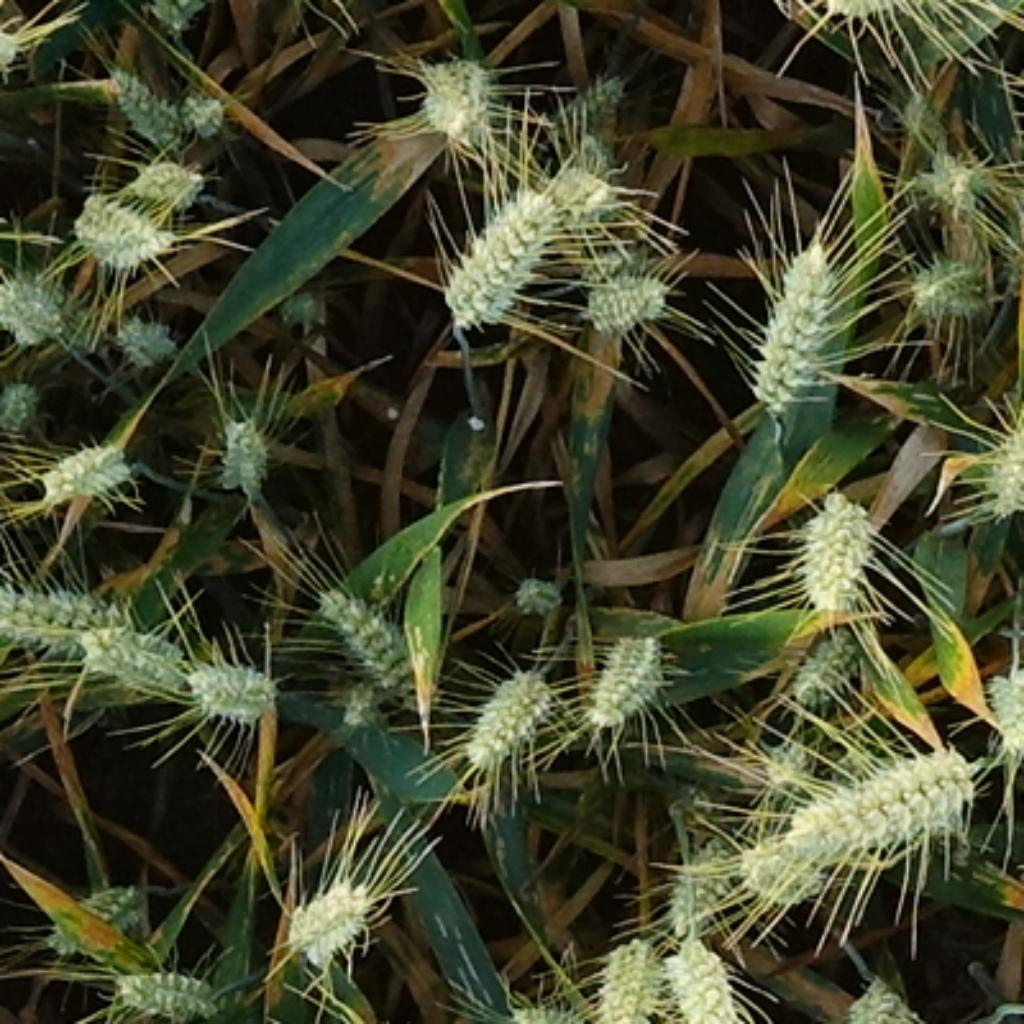0-0: (773, 734, 995, 872), (427, 166, 570, 325), (739, 222, 855, 412), (314, 576, 427, 706), (785, 476, 885, 611), (2, 578, 143, 663), (458, 657, 555, 775), (581, 624, 673, 742), (273, 860, 378, 957), (74, 622, 194, 706), (407, 61, 506, 161), (734, 811, 844, 898), (40, 880, 151, 960), (69, 189, 171, 271), (537, 58, 632, 145), (104, 957, 227, 1024), (179, 642, 281, 719), (663, 931, 747, 1024), (660, 829, 739, 926), (104, 69, 197, 151), (785, 614, 872, 701), (38, 427, 138, 499), (586, 930, 663, 1023), (906, 240, 995, 317), (542, 156, 634, 230), (906, 135, 990, 215), (2, 266, 76, 353), (977, 394, 1024, 519), (586, 271, 673, 337), (209, 399, 273, 488), (834, 962, 916, 1024), (504, 988, 629, 1024), (125, 148, 207, 199), (110, 309, 179, 368), (896, 84, 952, 156), (744, 734, 811, 793), (581, 240, 657, 291), (330, 665, 399, 721), (167, 75, 231, 134), (983, 655, 1024, 747), (509, 568, 568, 619), (277, 286, 328, 342), (2, 371, 43, 430), (156, 2, 215, 43), (0, 27, 35, 79)
